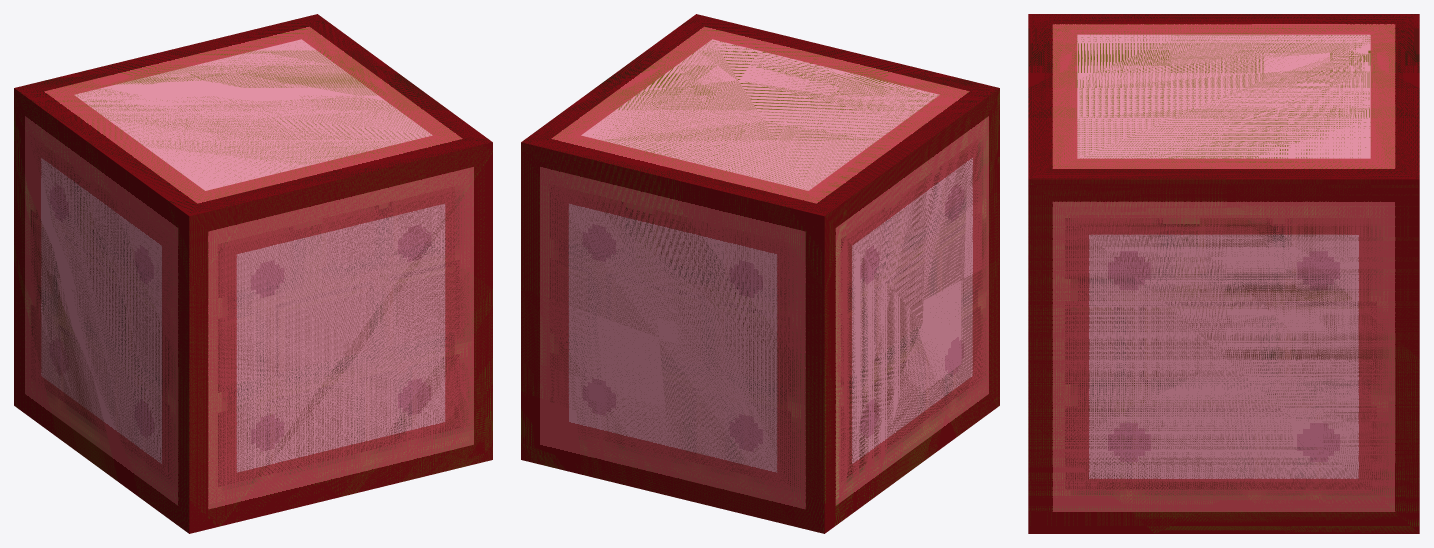
File: MOBJ_BrickBadgeBlock.dae
3 renders of one model, left to right at view 1: azimuth 30°, elevation 25°; view 2: azimuth 150°, elevation 25°; view 3: azimuth 270°, elevation 25°, orthographic. The views are drawn at different scales.
Parts seen in each view (by area): view 1: su_mae, su_hidari, su_ue, hatena_mae_part1, hatena_hidari, hatena_ue; view 2: su_usiro, su_hidari, su_ue, hatena_hidari, hatena_usiro, hatena_ue; view 3: su_migi, su_ue, hatena_migi, hatena_ue.
Part boxes in pixels (x1,y1,x2,y2): su_mae: (189, 142, 492, 533); su_hidari: (14, 88, 189, 533); su_ue: (14, 14, 492, 216); hatena_mae_part1: (189, 145, 492, 526); hatena_hidari: (14, 88, 189, 531); hatena_ue: (17, 15, 491, 213); su_usiro: (521, 142, 824, 533); su_hidari: (824, 88, 999, 533); su_ue: (521, 14, 999, 216); hatena_hidari: (824, 89, 999, 525); hatena_usiro: (521, 144, 824, 532); hatena_ue: (523, 15, 998, 214); su_migi: (1028, 179, 1419, 533); su_ue: (1028, 14, 1419, 179); hatena_migi: (1028, 179, 1419, 533); hatena_ue: (1028, 14, 1419, 178).
Size of the model in its own units: 2.5 by 2.5 by 2.5.
Materials: 3 (3 with a texture image).
